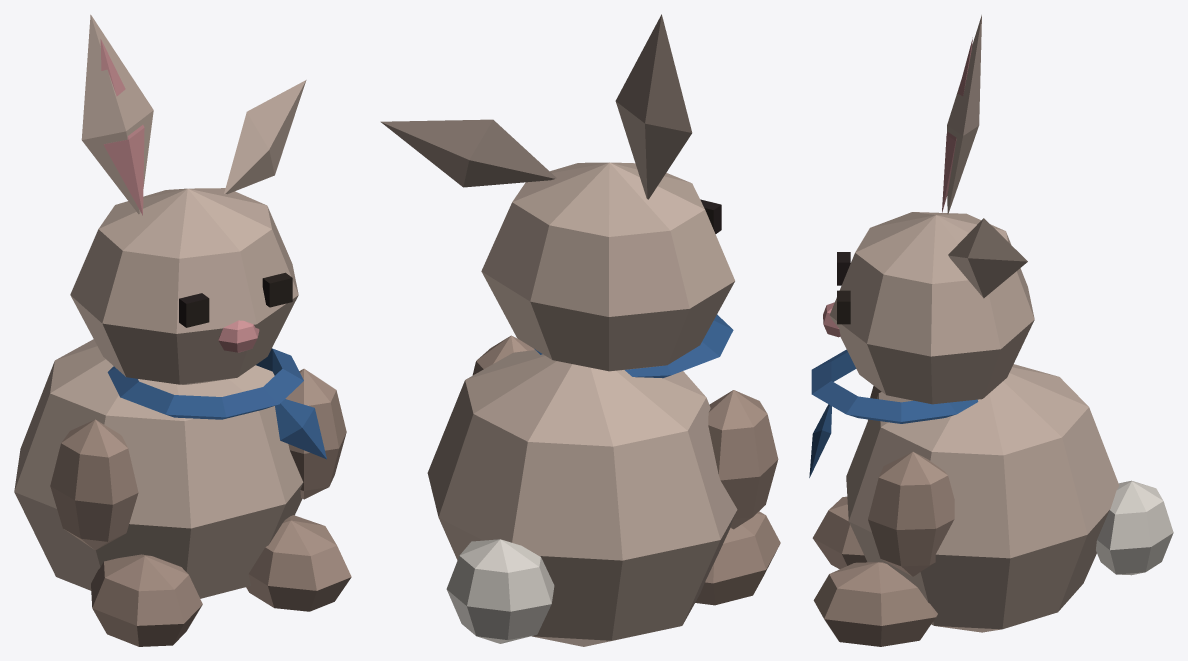
Rendered from quest_toy_rabbit.glb.
The picture shows the model from 3 angles, left to right: view 1: azimuth 30°, elevation 25°; view 2: azimuth 150°, elevation 25°; view 3: azimuth 270°, elevation 25°; orthographic projection. The views are drawn at different scales.
Visible parts, largest first — view 1: quest_toy_rabbit; view 2: quest_toy_rabbit; view 3: quest_toy_rabbit.
Boxes of the visible parts, x1,y1,x2,y2 form: quest_toy_rabbit: [14, 14, 351, 646]; quest_toy_rabbit: [380, 14, 780, 646]; quest_toy_rabbit: [809, 15, 1173, 646].
Size of the model in its own units: 0.2935 by 0.56 by 0.3163.
